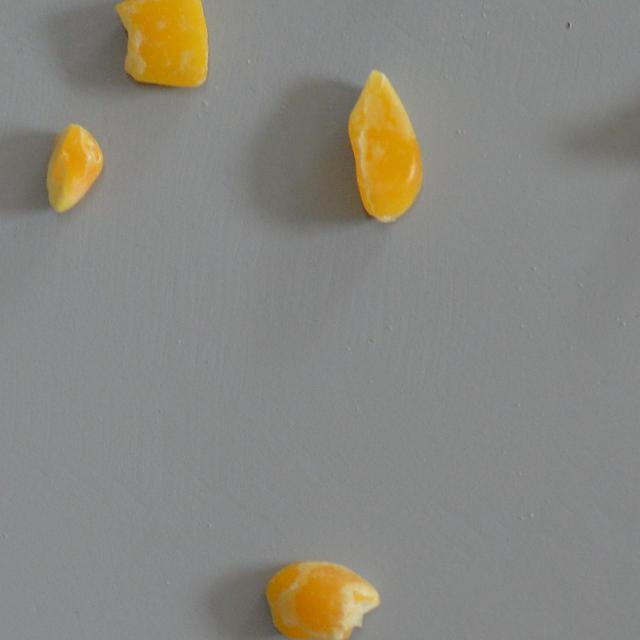pelicula: (336, 69, 430, 224), (106, 0, 214, 88), (277, 540, 366, 640), (26, 136, 120, 204)
